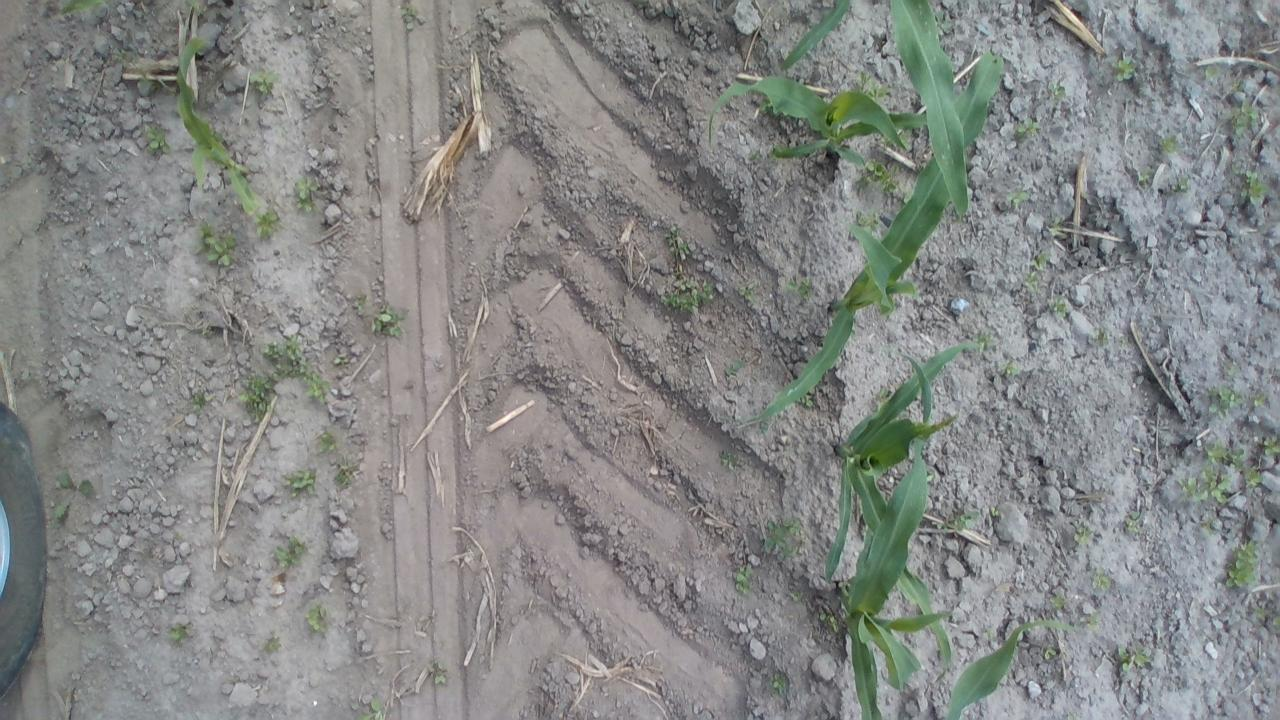Maize: (738, 50, 1008, 433), (825, 334, 982, 674), (707, 69, 993, 170), (838, 437, 939, 720), (172, 34, 262, 217)
Weeds: (264, 336, 334, 409), (190, 224, 246, 278), (666, 279, 720, 319), (362, 302, 408, 346), (238, 373, 278, 422), (1222, 550, 1257, 602), (864, 157, 905, 201), (756, 522, 802, 561), (1203, 392, 1269, 419), (1179, 478, 1240, 506), (386, 0, 427, 41), (245, 68, 285, 105), (1112, 45, 1145, 88), (290, 178, 324, 218), (266, 536, 306, 569), (851, 73, 890, 103), (1201, 438, 1240, 468), (767, 668, 797, 707), (303, 607, 338, 640), (1230, 102, 1260, 140), (144, 124, 170, 167), (284, 465, 318, 497), (1044, 72, 1076, 106), (786, 271, 818, 304), (252, 208, 278, 247), (1113, 644, 1148, 671), (1014, 114, 1046, 142), (168, 618, 200, 644), (1005, 181, 1034, 208), (1152, 131, 1182, 156), (1071, 524, 1104, 546), (314, 431, 340, 458), (958, 507, 984, 534), (852, 204, 880, 228), (1243, 173, 1267, 200), (332, 461, 352, 492), (730, 567, 752, 595), (1028, 248, 1053, 272), (1044, 215, 1066, 241), (819, 607, 840, 631), (1090, 568, 1112, 590), (998, 359, 1022, 379), (1045, 592, 1071, 610), (1081, 608, 1103, 629), (1171, 172, 1192, 192), (1026, 268, 1042, 294), (1047, 296, 1067, 316), (1132, 166, 1154, 184), (1124, 512, 1142, 532), (1201, 516, 1217, 537), (739, 280, 754, 302), (1092, 328, 1110, 346), (1036, 645, 1056, 659), (724, 360, 741, 376), (788, 590, 806, 601)
